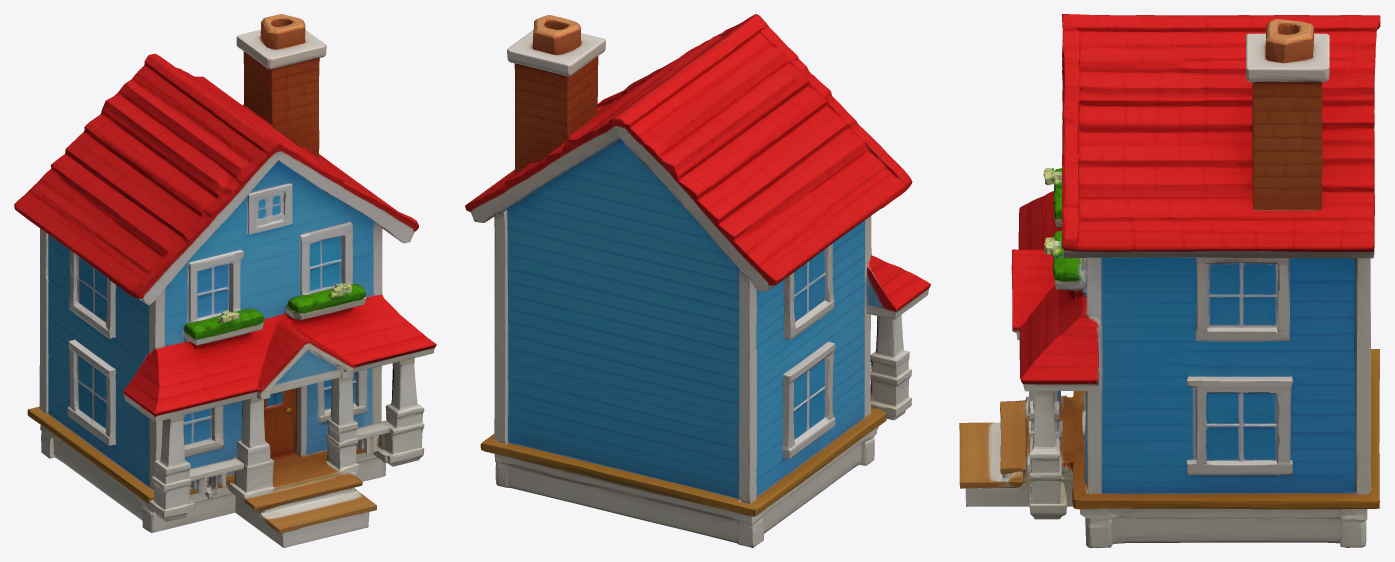
The model's file is suburban_house.glb.
3 views of the same model, side by side, from view 1: azimuth 30°, elevation 25°; view 2: azimuth 150°, elevation 25°; view 3: azimuth 270°, elevation 25° (orthographic). The views are drawn at different scales.
Visible parts, largest first — view 1: geometry_0; view 2: geometry_0; view 3: geometry_0.
Part boxes in pixels (x1,y1,x2,y2): geometry_0: [14, 14, 436, 547]; geometry_0: [465, 14, 930, 547]; geometry_0: [959, 14, 1380, 547].
Bounding box in the file's own units: 0.7391 × 1 × 0.7566.
Materials: 1 (1 with a texture image).
